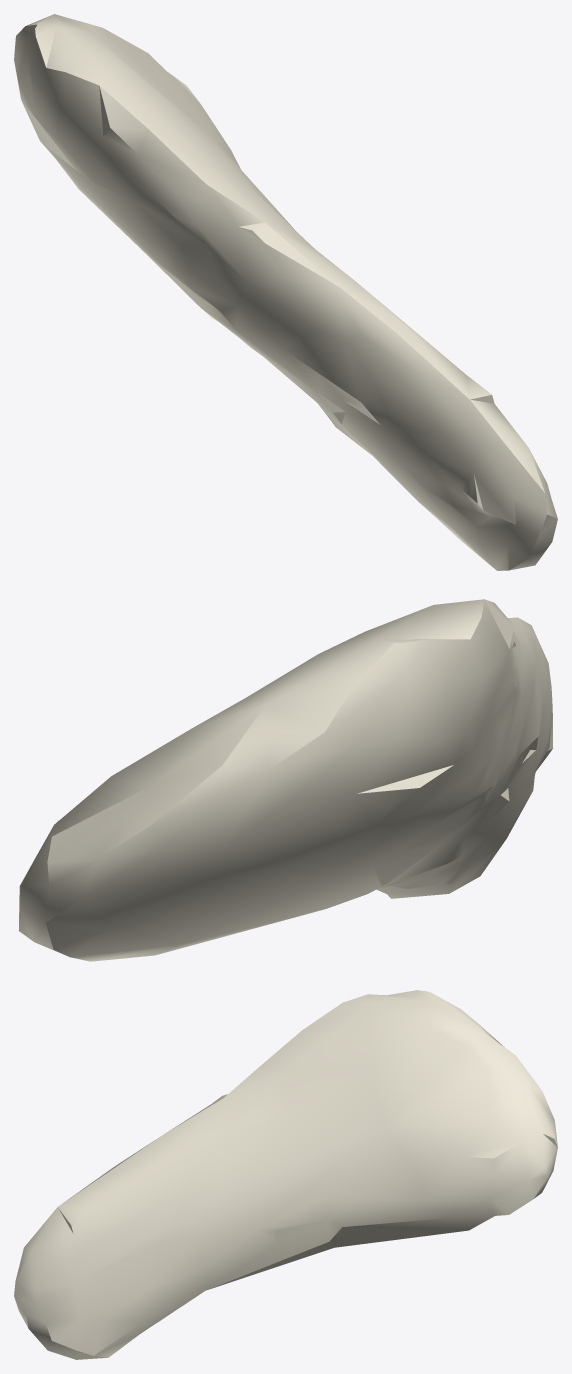
File: fma44290_mm1356.glb
3 renders of one model, top to bottom at view 1: azimuth 30°, elevation 25°; view 2: azimuth 150°, elevation 25°; view 3: azimuth 270°, elevation 25°, orthographic. The views are drawn at different scales.
Parts seen in each view (by area): view 1: FMA44290_MM1356; view 2: FMA44290_MM1356; view 3: FMA44290_MM1356.
Boxes of the visible parts, <box> form: FMA44290_MM1356: <box>14,14,557,570</box>; FMA44290_MM1356: <box>18,599,553,961</box>; FMA44290_MM1356: <box>14,990,557,1359</box>.
Size of the model in its own units: 0.00608 by 0.00901 by 0.0152.
